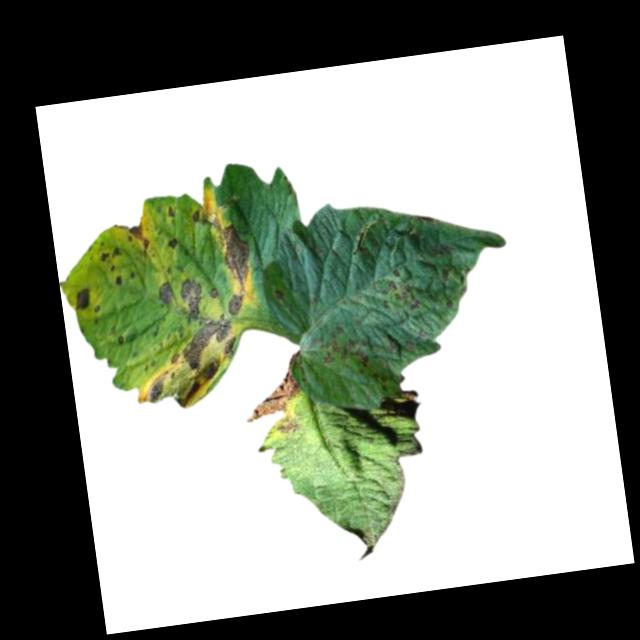Early_blight: (129, 313, 248, 415), (240, 352, 304, 421), (308, 325, 374, 377), (213, 222, 257, 293), (375, 267, 419, 318), (176, 275, 207, 323), (125, 221, 151, 256), (225, 291, 246, 319), (72, 288, 93, 313), (97, 243, 123, 263), (154, 281, 174, 306), (277, 417, 298, 436), (189, 208, 203, 226), (111, 273, 124, 289), (165, 238, 179, 251), (272, 289, 285, 302), (164, 205, 175, 220), (209, 288, 217, 300)
